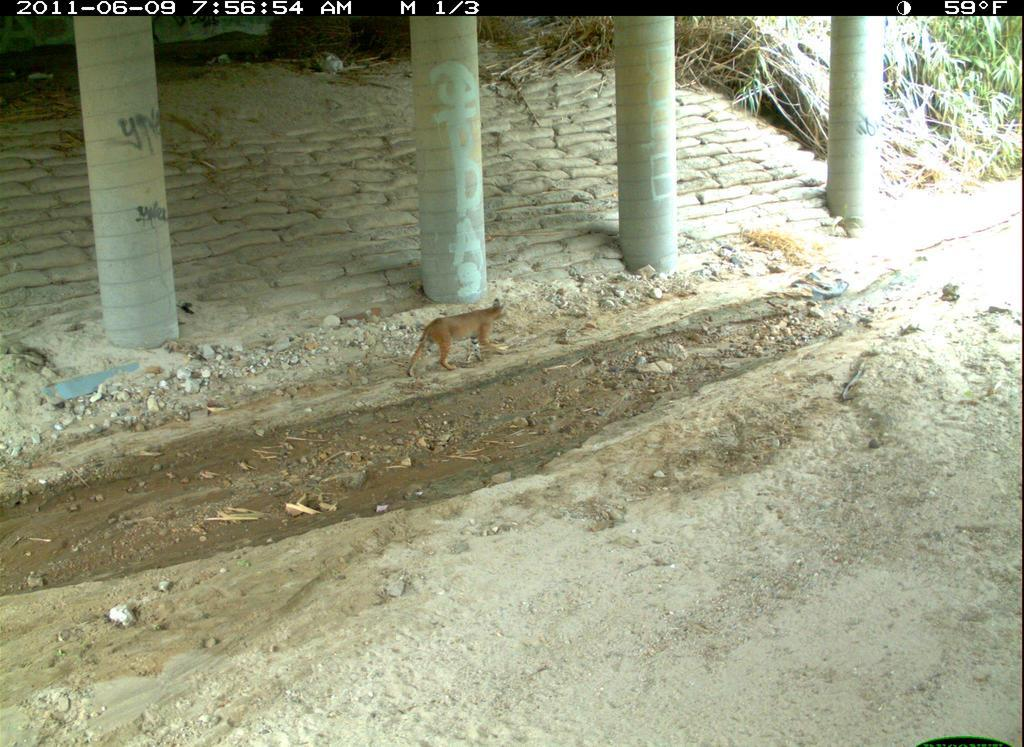bobcat: (801, 584, 1024, 747)
